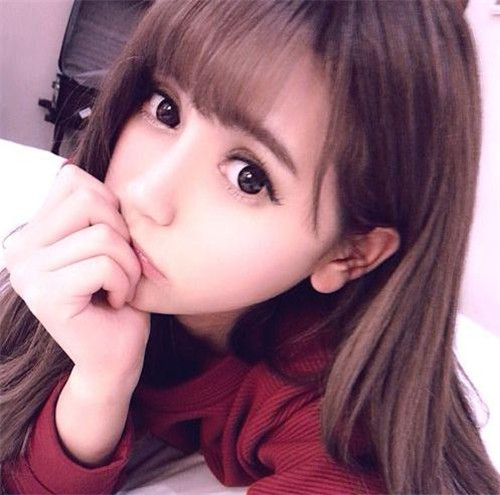face: (100, 16, 349, 319)
